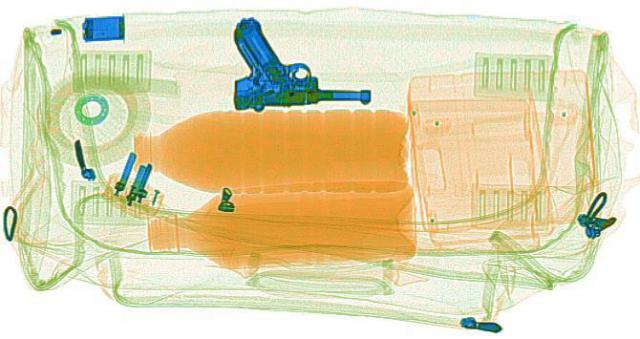Gun: (218, 11, 374, 110)
